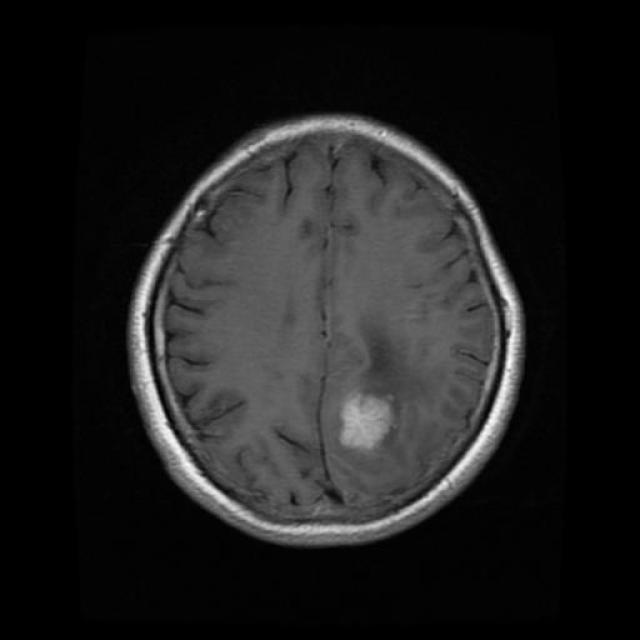meningioma: (339, 394, 394, 451)
